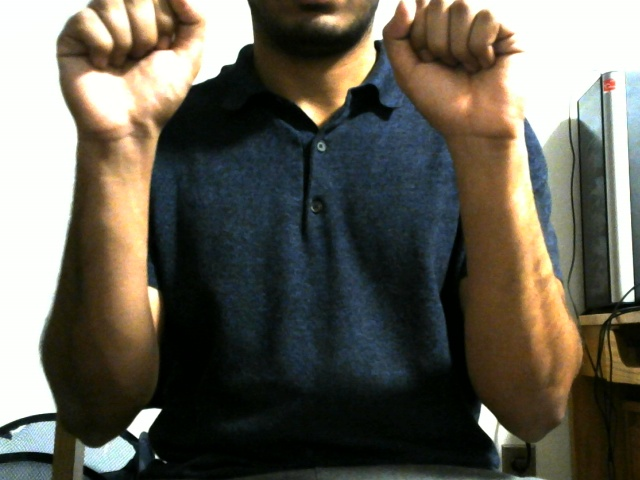can: (38, 2, 606, 430)
